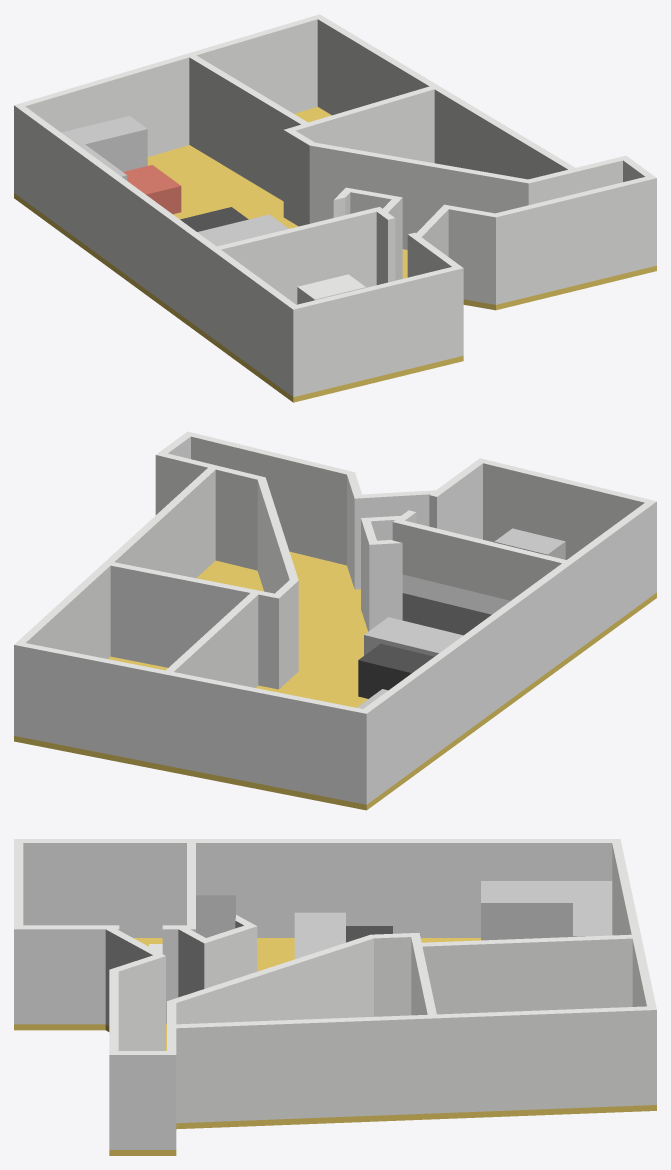
Rendered from Apartment.dae.
The picture shows the model from 3 angles, top to bottom: view 1: azimuth 30°, elevation 25°; view 2: azimuth 150°, elevation 25°; view 3: azimuth 270°, elevation 25°; orthographic projection. The views are drawn at different scales.
Parts seen in each view (by area): view 1: Body1, Body6, Body7, Body3, Body2, Body10, Body8; view 2: Body1, Body6, Body11, Body8, Body2, Body9; view 3: Body1, Body7, Body6, Body2, Body11, Body8.
Part boxes in pixels (x1,y1,x2,y2): Body1: [14, 14, 656, 396]; Body6: [14, 107, 656, 402]; Body7: [61, 116, 147, 180]; Body3: [123, 165, 181, 214]; Body2: [197, 214, 288, 246]; Body10: [297, 274, 365, 304]; Body8: [180, 207, 248, 231]; Body1: [14, 431, 656, 804]; Body6: [14, 551, 656, 810]; Body11: [402, 574, 510, 635]; Body8: [358, 643, 434, 698]; Body2: [364, 617, 463, 656]; Body9: [494, 528, 565, 559]; Body1: [14, 839, 656, 1149]; Body7: [481, 881, 612, 940]; Body6: [14, 938, 656, 1155]; Body2: [294, 912, 345, 959]; Body11: [196, 895, 235, 937]; Body8: [346, 926, 392, 942].
Bounding box in the file's own units: 9.75 × 12.27 × 2.12.
